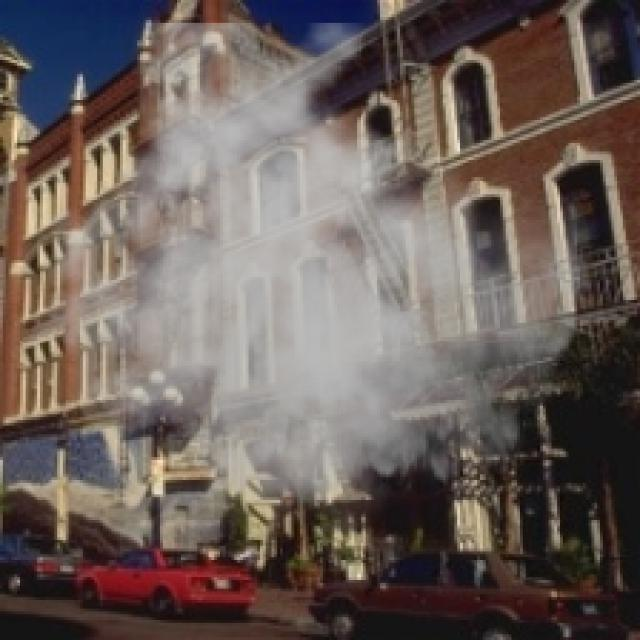smoke: (28, 23, 583, 554)
